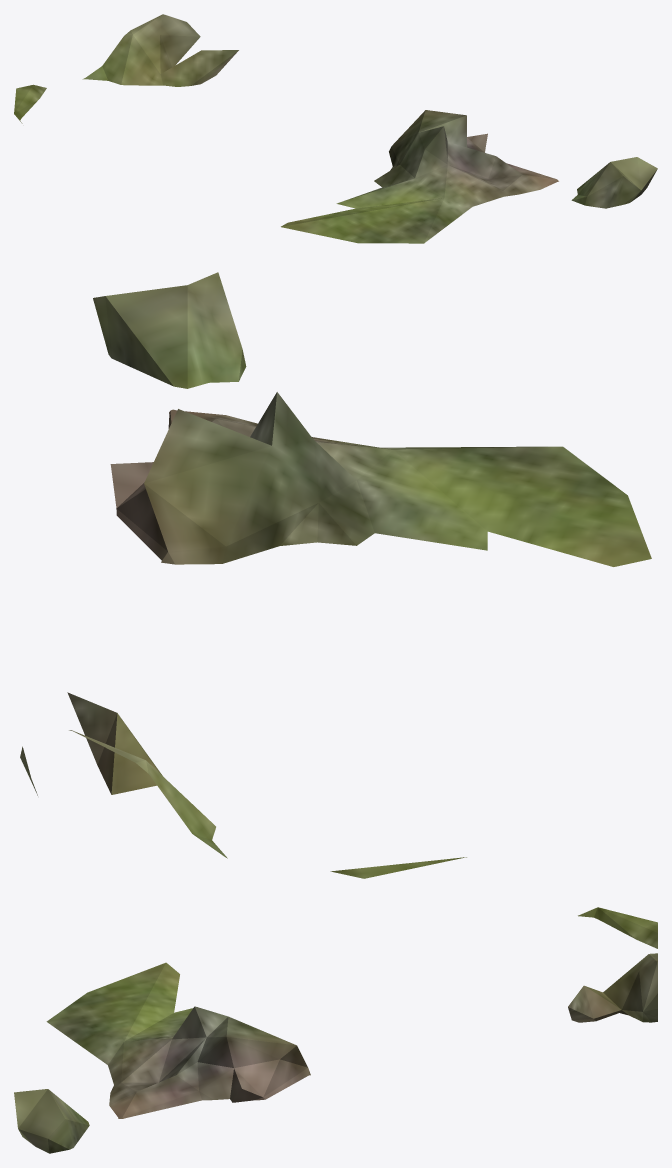
3 renders of one model, top to bottom at view 1: azimuth 30°, elevation 25°; view 2: azimuth 150°, elevation 25°; view 3: azimuth 270°, elevation 25°, orthographic. The views are drawn at different scales.
Size of the model in its own units: 9.63 by 1.16 by 10.71.
Materials: 1 (1 with a texture image).
